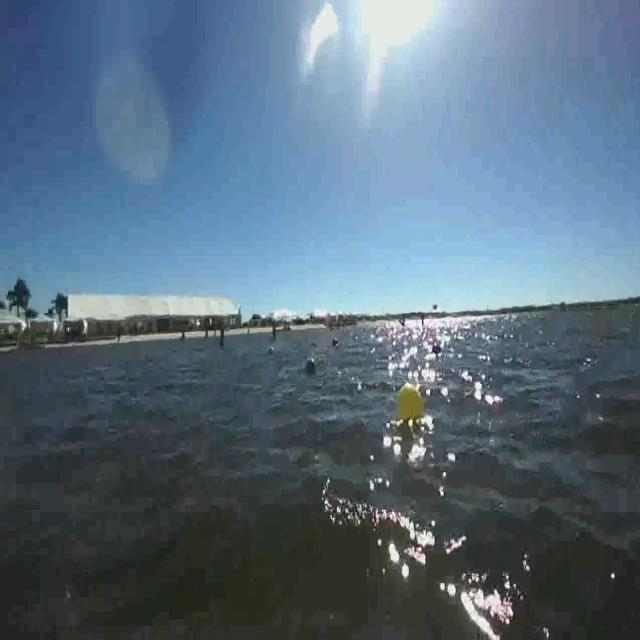yellow-buoy: (394, 383, 424, 429)
